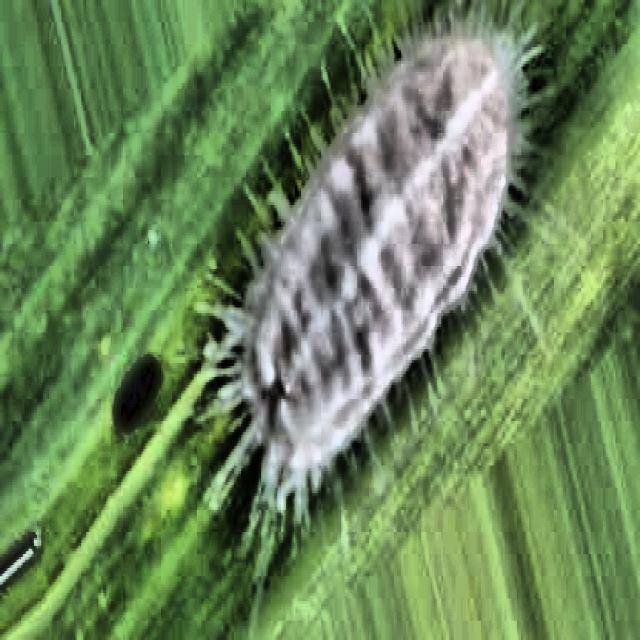Mealy-bug: (168, 12, 595, 630)
